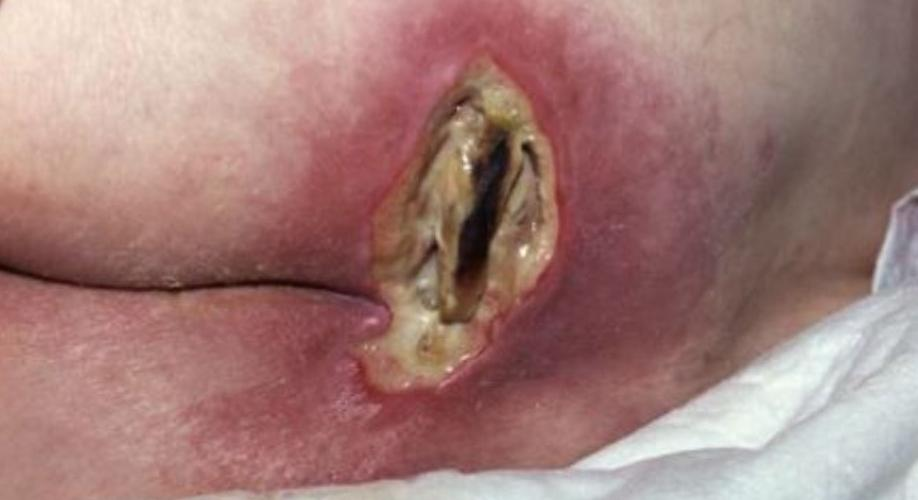Stage3: (326, 48, 603, 398)
